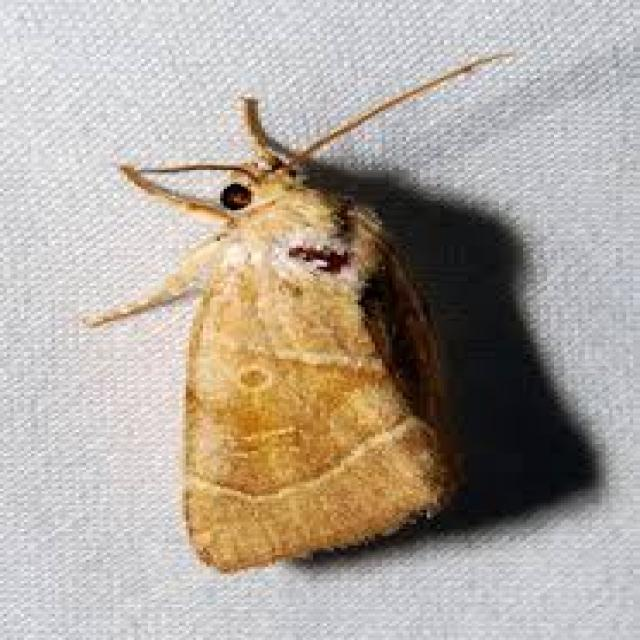yellow-stem-borer: (91, 84, 546, 579)
